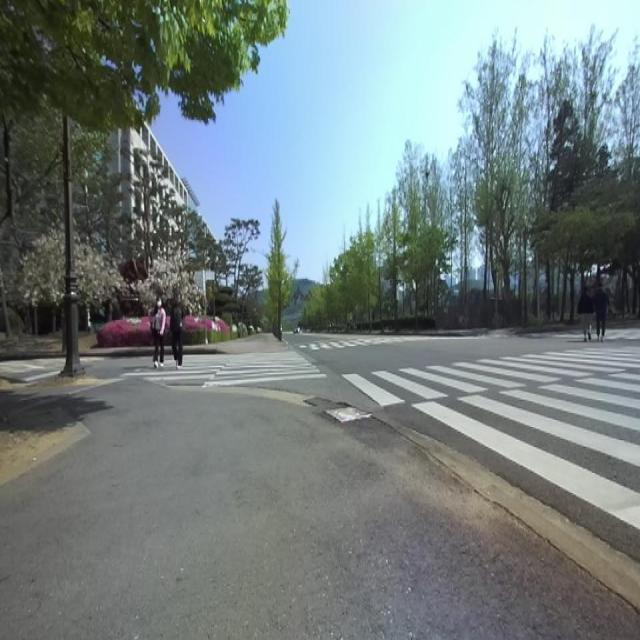sidewalk: (0, 380, 640, 639)
